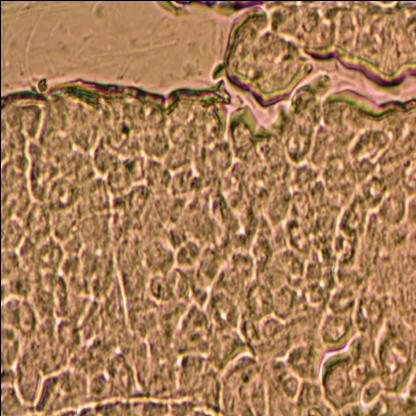Stage I: (0, 80, 416, 416)
